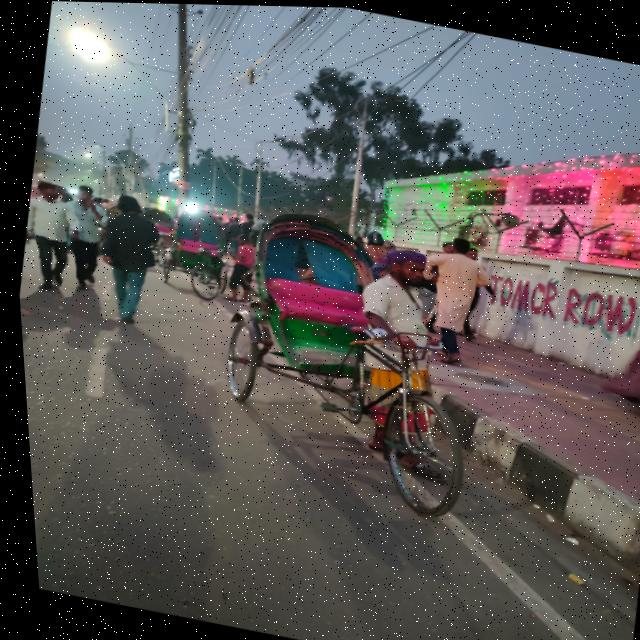rikshaw: (181, 187, 529, 541)
